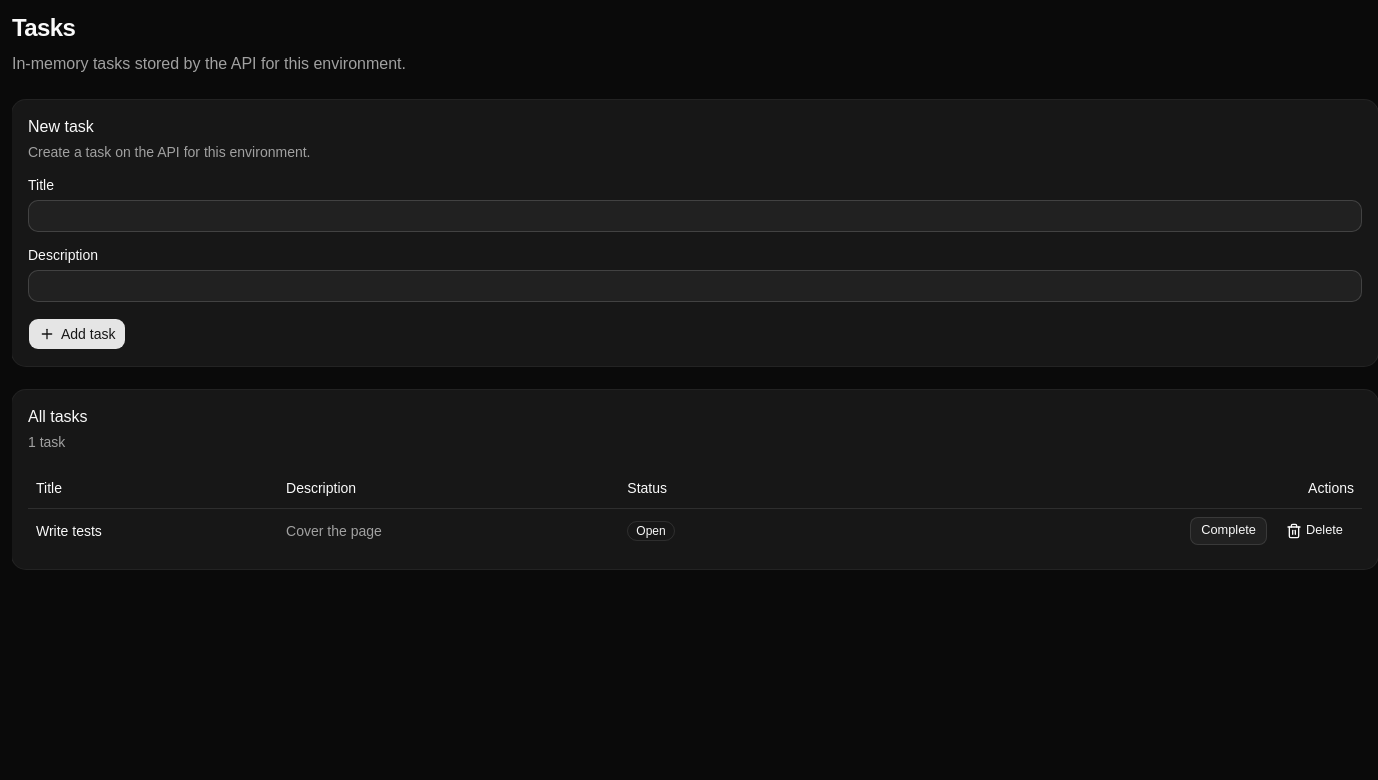
it: lists tasks and creates a new one
Expected: the text "Write tests" is shown, [28,508,278,552]
In the field labelled "Title": [695, 216] box [28,200,1362,232], type "Ship it"
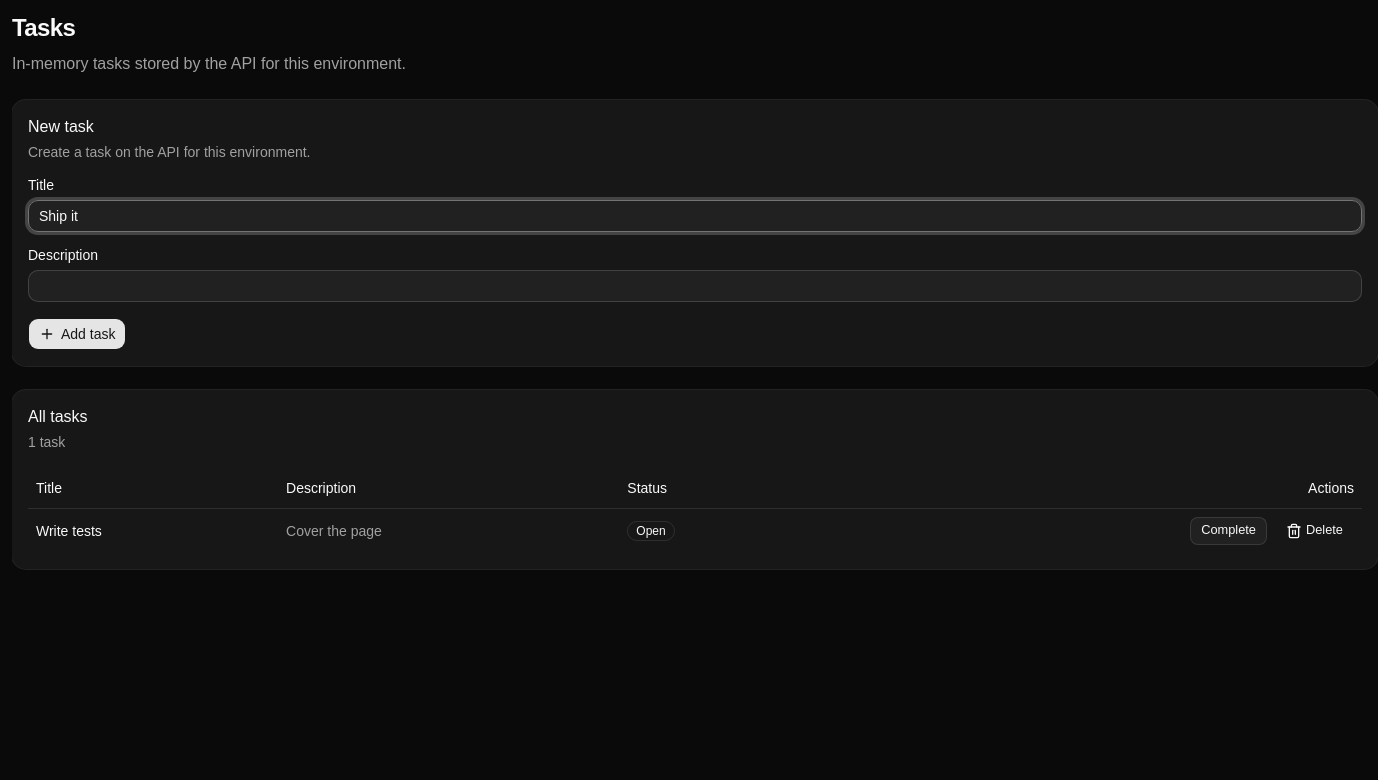
Click the button "Add task": [77, 334] box [28,318,126,350]
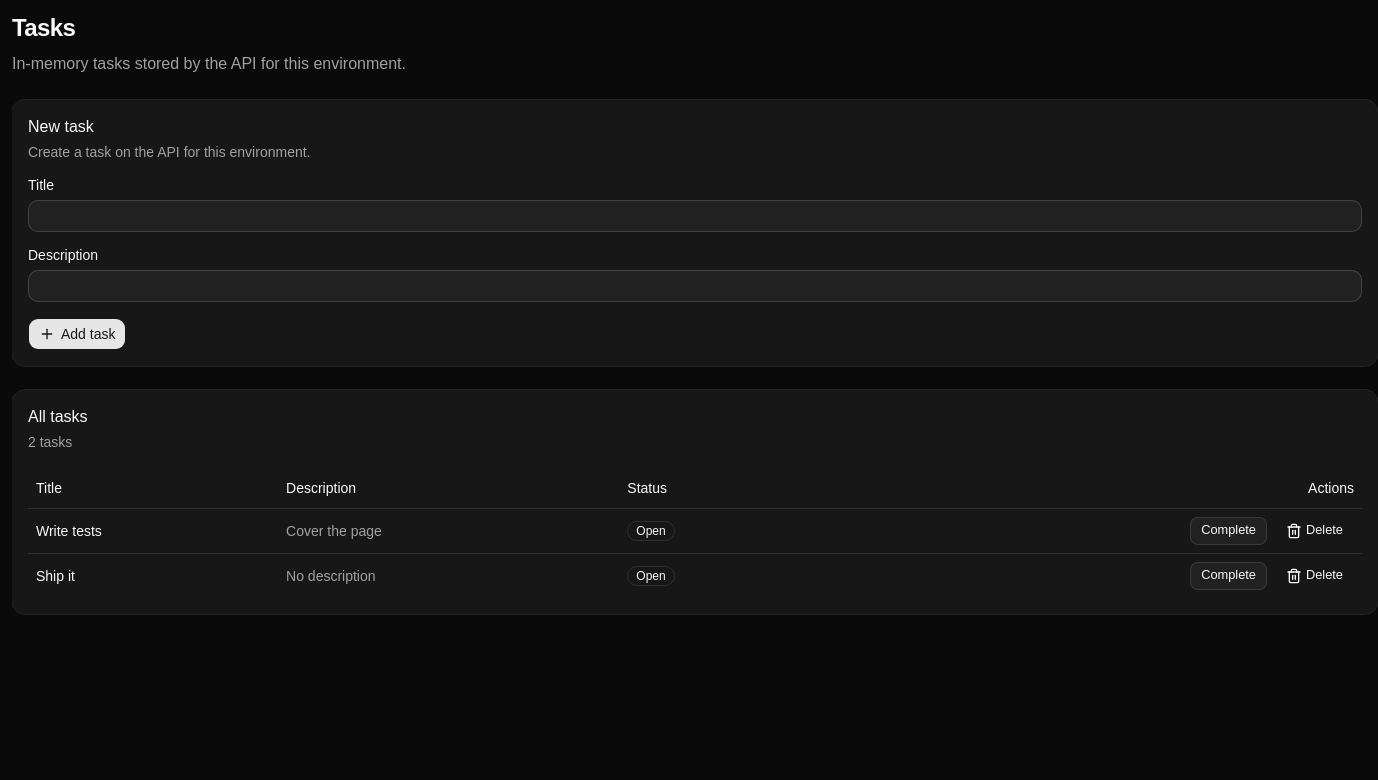
Expected: the text "Ship it" is shown, [28,553,278,598]
